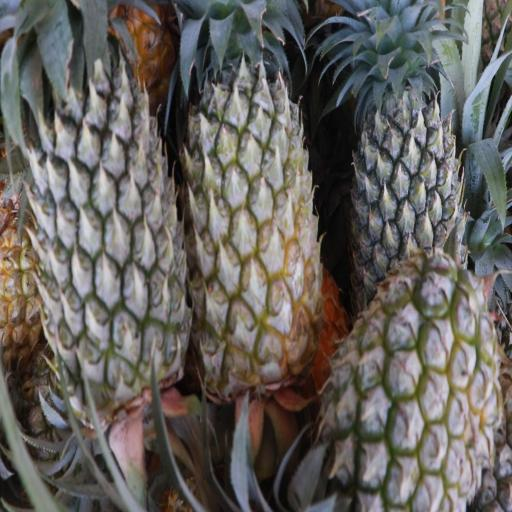------------------------------: (182, 27, 318, 394), (331, 264, 502, 508)
Pineapple - v8 v1: (0, 218, 49, 356)
